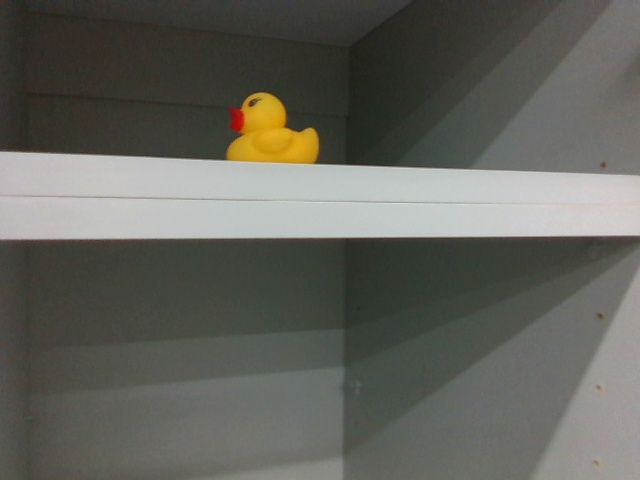duck: (221, 87, 322, 172)
